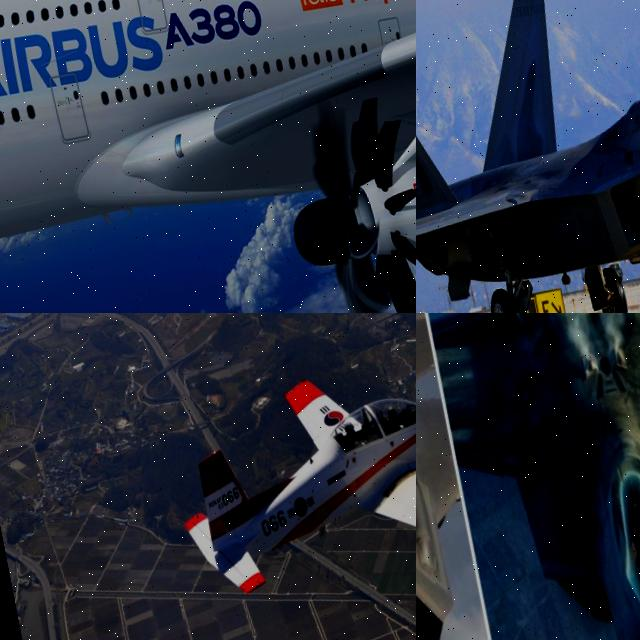A380: (0, 0, 416, 313)
F22: (416, 313, 640, 640), (416, 0, 640, 313), (416, 313, 525, 640)
KT-1: (158, 338, 416, 619)
